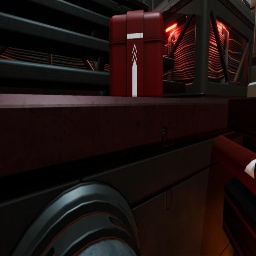FirstAidBox ,: (109, 8, 164, 98)
